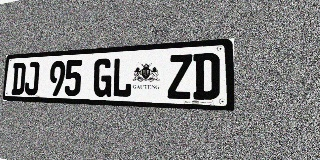5: (64, 60, 82, 96)
9: (49, 60, 66, 96)
D: (193, 52, 220, 100), (11, 62, 26, 95)
G: (93, 58, 113, 97)
J: (24, 62, 40, 95)
L: (112, 57, 133, 98)
Z: (167, 54, 192, 99)
